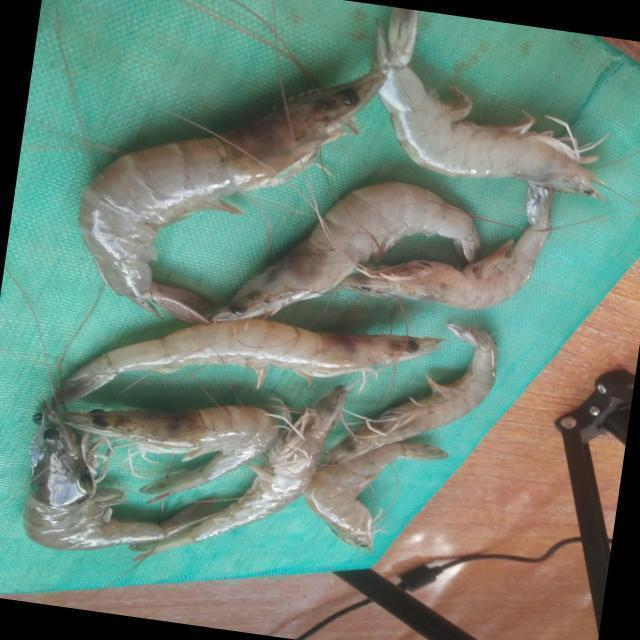shrimp: (78, 69, 383, 323), (376, 7, 605, 198), (208, 181, 480, 321), (132, 386, 347, 559), (55, 319, 442, 403), (340, 183, 555, 310), (23, 403, 206, 551), (324, 324, 498, 465), (62, 406, 278, 501), (304, 442, 448, 552)
